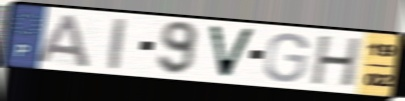9: (155, 19, 199, 79)
A: (33, 12, 92, 69)
G: (261, 31, 311, 84)
H: (309, 34, 365, 90)
I: (108, 16, 128, 72)
V: (205, 23, 259, 81)
